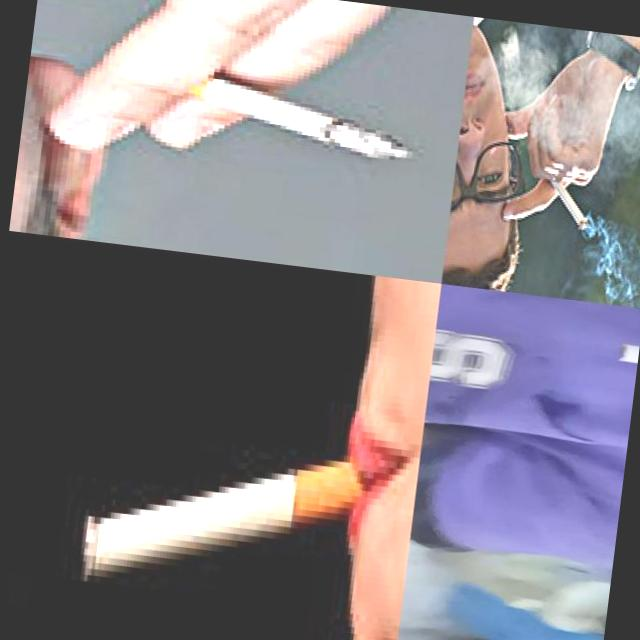cigarette: (77, 422, 378, 614), (142, 58, 422, 165), (542, 172, 592, 232)
